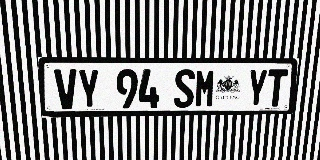4: (138, 69, 159, 108)
9: (116, 69, 138, 109)
M: (194, 69, 216, 108)
S: (174, 69, 195, 108)
T: (266, 69, 288, 107)
V: (54, 69, 78, 109)
Y: (77, 69, 100, 109), (246, 69, 268, 107)
